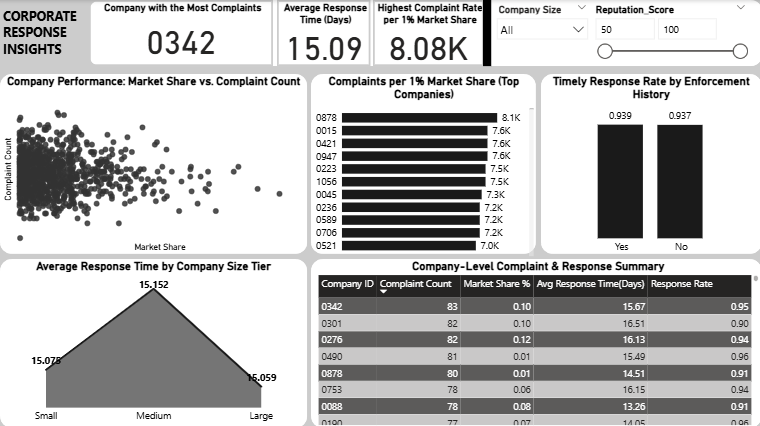

The dashboard page shown, as its layout file describes it:
{"tool":"powerbi","page":{"name":"Company Performance & Accountability","canvas":[1280,720],"ordinal":2},"visuals":[{"type":"shape","box":[0,0,1280,720.6],"z":0},{"type":"shape","box":[0,124.8,516.1,302.5],"z":1000},{"type":"shape","box":[0,435.8,516.1,283.7],"z":2000},{"type":"shape","box":[522.9,124.8,377.7,302.5],"z":3000},{"type":"shape","box":[909.2,124.8,370.8,302.5],"z":4000},{"type":"shape","box":[522.9,435.8,757.1,283.7],"z":5000},{"type":"shape","box":[148.7,0,1131.3,111.1],"z":6000},{"type":"card","title":"Company with the Most Complaints","fields":{"Values":["Company.Company Highest Complaints"]},"box":[148.7,0,309.3,111.1],"z":7000},{"type":"card","title":"Average Response Time (Days)","fields":{"Values":["Company.Avg Response Days"]},"box":[464.8,0,157.2,111.1],"z":8000},{"type":"card","title":"Highest Complaint Rate per 1% Market Share","fields":{"Values":["Company.Highest Complaint Rate"]},"box":[627.2,0,186.3,111.1],"z":9000},{"type":"scatterChart","title":"Company Performance: Market Share vs. Complaint Count","fields":{"X":["Company.Market_Share_Percent"],"Y":["Company.Complaint_Count"]},"box":[0,124.4,516.6,302.9],"z":10000},{"type":"clusteredBarChart","title":"Complaints per 1% Market Share (Top Companies)","fields":{"Y":["Avg(Company.Complaints_per_1pct_Share)"],"Category":["Company.Company_ID_1081"]},"box":[522.9,124.8,379.4,311],"z":11000},{"type":"areaChart","title":"Average Response Time by Company Size Tier","fields":{"Category":["Company.Company_Size_Tier"],"Y":["Avg(Company.Avg_Response_Time_Days)"]},"box":[0,435.8,516.1,283.7],"z":12000},{"type":"columnChart","title":"Timely Response Rate by Enforcement History","fields":{"Category":["Company.Enforcement_History"],"Y":["Avg(Company.Timely_Response_Rate)"]},"box":[909.2,124.8,370.8,311],"z":13000},{"type":"tableEx","title":"Company-Level Complaint & Response Summary","fields":{"Values":["Company.Company_ID_1081","Company.Complaint_Count","Company.Market_Share_Percent","Company.Avg_Response_Time_Days","Company.Timely_Response_Rate"]},"box":[529.8,435.8,750.2,283.7],"z":14000},{"type":"shape","box":[811.7,0,13.7,111.1],"z":15000},{"type":"slicer","fields":{"Values":["Company.Company_Size_Tier"]},"box":[825.4,0,172.6,111.1],"z":16000},{"type":"slicer","fields":{"Values":["Company.Reputation_Score"]},"box":[987.8,0,276.8,160.6],"z":17000},{"type":"textbox","box":[0,6.8,164.1,111.1],"z":18000}]}

Visuals, with their boxes in screenshot pixels (x1, y1, x2, y2), scaled from the page's 1280x720 canvas onto the 760x426 screenshot:
shape: 0:0:759:425
shape: 0:74:306:253
shape: 0:258:306:425
shape: 310:74:535:253
shape: 540:74:759:253
shape: 310:258:759:425
shape: 88:0:759:66
"Company with the Most Complaints" card: 88:0:272:66
"Average Response Time (Days)" card: 276:0:369:66
"Highest Complaint Rate per 1% Market Share" card: 372:0:483:66
"Company Performance: Market Share vs. Complaint Count" scatterChart: 0:74:307:253
"Complaints per 1% Market Share (Top Companies)" clusteredBarChart: 310:74:536:258
"Average Response Time by Company Size Tier" areaChart: 0:258:306:425
"Timely Response Rate by Enforcement History" columnChart: 540:74:759:258
"Company-Level Complaint & Response Summary" tableEx: 315:258:759:425
shape: 482:0:490:66
slicer - Company.Company_Size_Tier: 490:0:593:66
slicer - Company.Reputation_Score: 587:0:751:95
textbox: 0:4:97:70
